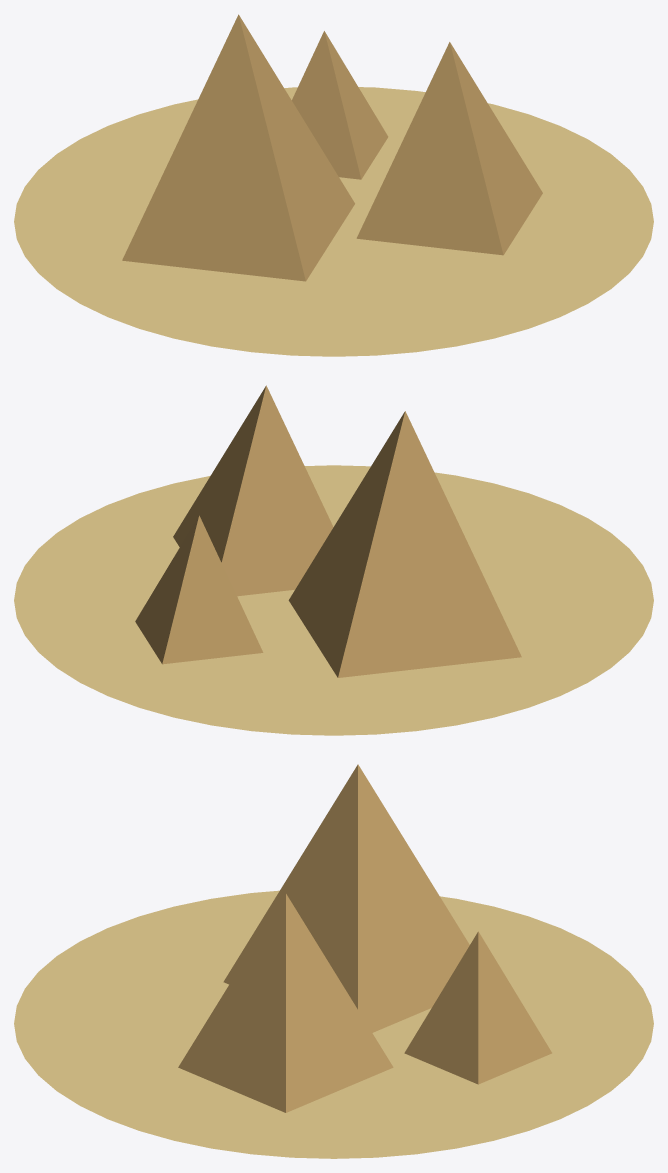
File: improvement_pyramid.fbx
3 renders of one model, top to bottom at view 1: azimuth 30°, elevation 25°; view 2: azimuth 150°, elevation 25°; view 3: azimuth 270°, elevation 25°, orthographic.
Parts seen in each view (by area): view 1: improvement_pyramid_sg#e0c88a.001_00, improvement_pyramid_npyr_01; view 2: improvement_pyramid_sg#e0c88a.001_00, improvement_pyramid_npyr_01; view 3: improvement_pyramid_sg#e0c88a.001_00, improvement_pyramid_npyr_01.
Part boxes in pixels (box(x1,y1,x2,y2)): improvement_pyramid_sg#e0c88a.001_00: box(14, 87, 653, 356); improvement_pyramid_npyr_01: box(122, 14, 542, 281); improvement_pyramid_sg#e0c88a.001_00: box(14, 465, 653, 735); improvement_pyramid_npyr_01: box(135, 385, 521, 677); improvement_pyramid_sg#e0c88a.001_00: box(14, 890, 653, 1158); improvement_pyramid_npyr_01: box(178, 764, 551, 1112).
Size of the model in its own units: 133 by 50.2 by 133.
